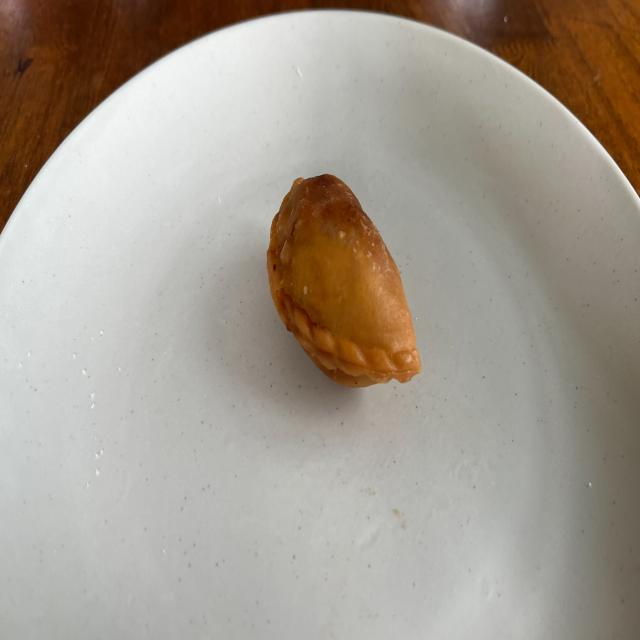karipap: (268, 176, 421, 387)
